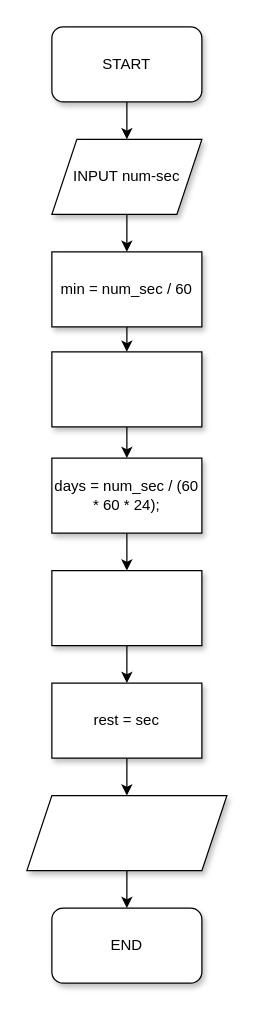
Some shapes in this 256 by 1014 pixel diagram are drawn without their labels. Each missing label, with the centre of its shape:
h = num_sec / (60 * 60);: the point at 127,391
OUTPUT WW:DDHH:MM:SS: the point at 127,834
weeks = num_sec / (60 * 60 * 24 * 7);: the point at 127,609
